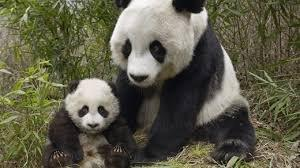bear: (109, 0, 256, 162), (46, 78, 137, 168)
